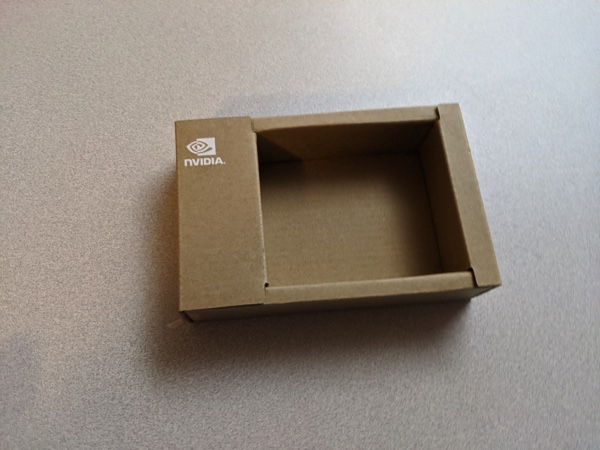cardboard: (157, 85, 525, 354)
